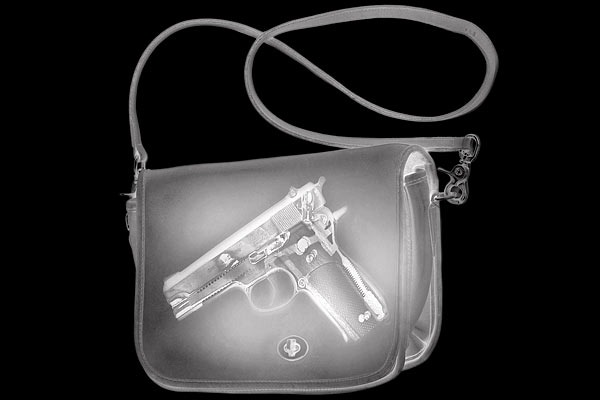gun: (162, 174, 391, 347)
